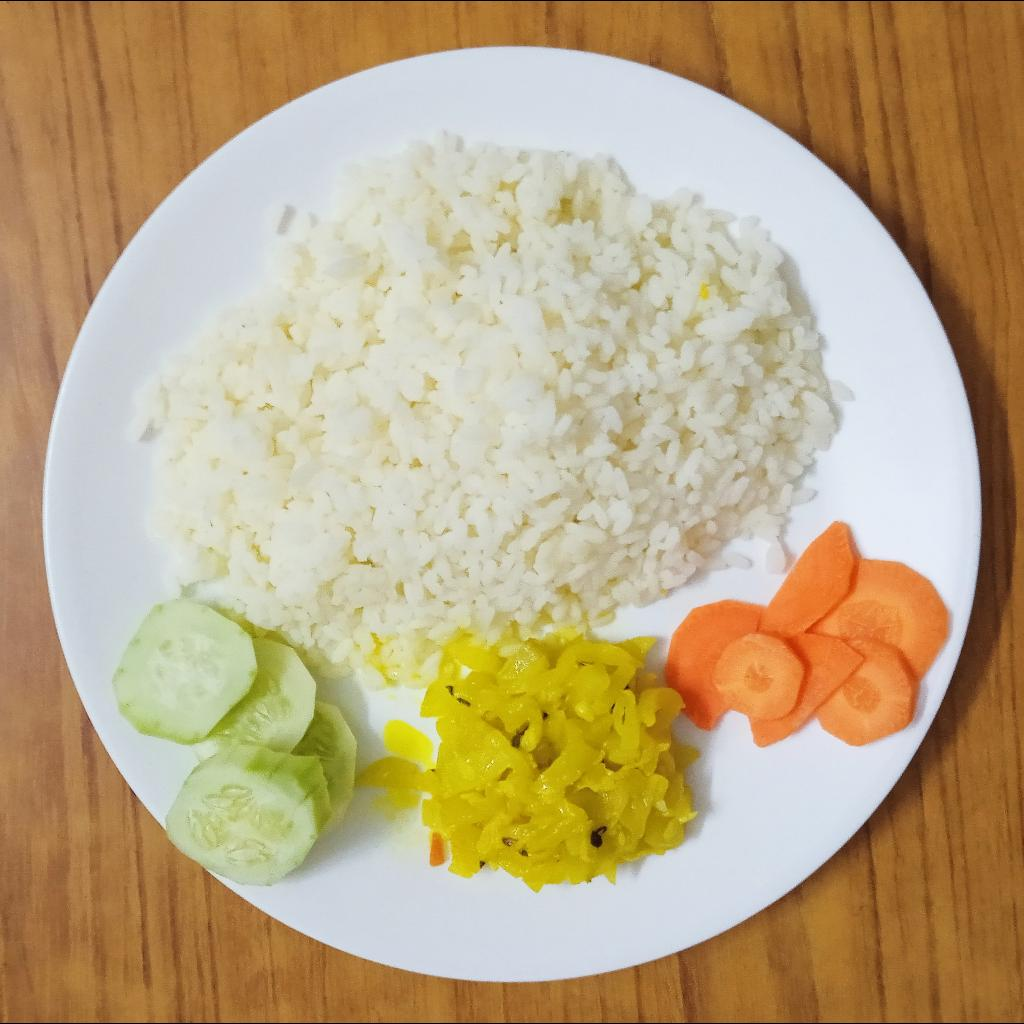carrot: (662, 524, 952, 748)
cucumber: (115, 594, 359, 883)
papaya: (356, 637, 707, 894)
rice: (123, 124, 862, 698)
